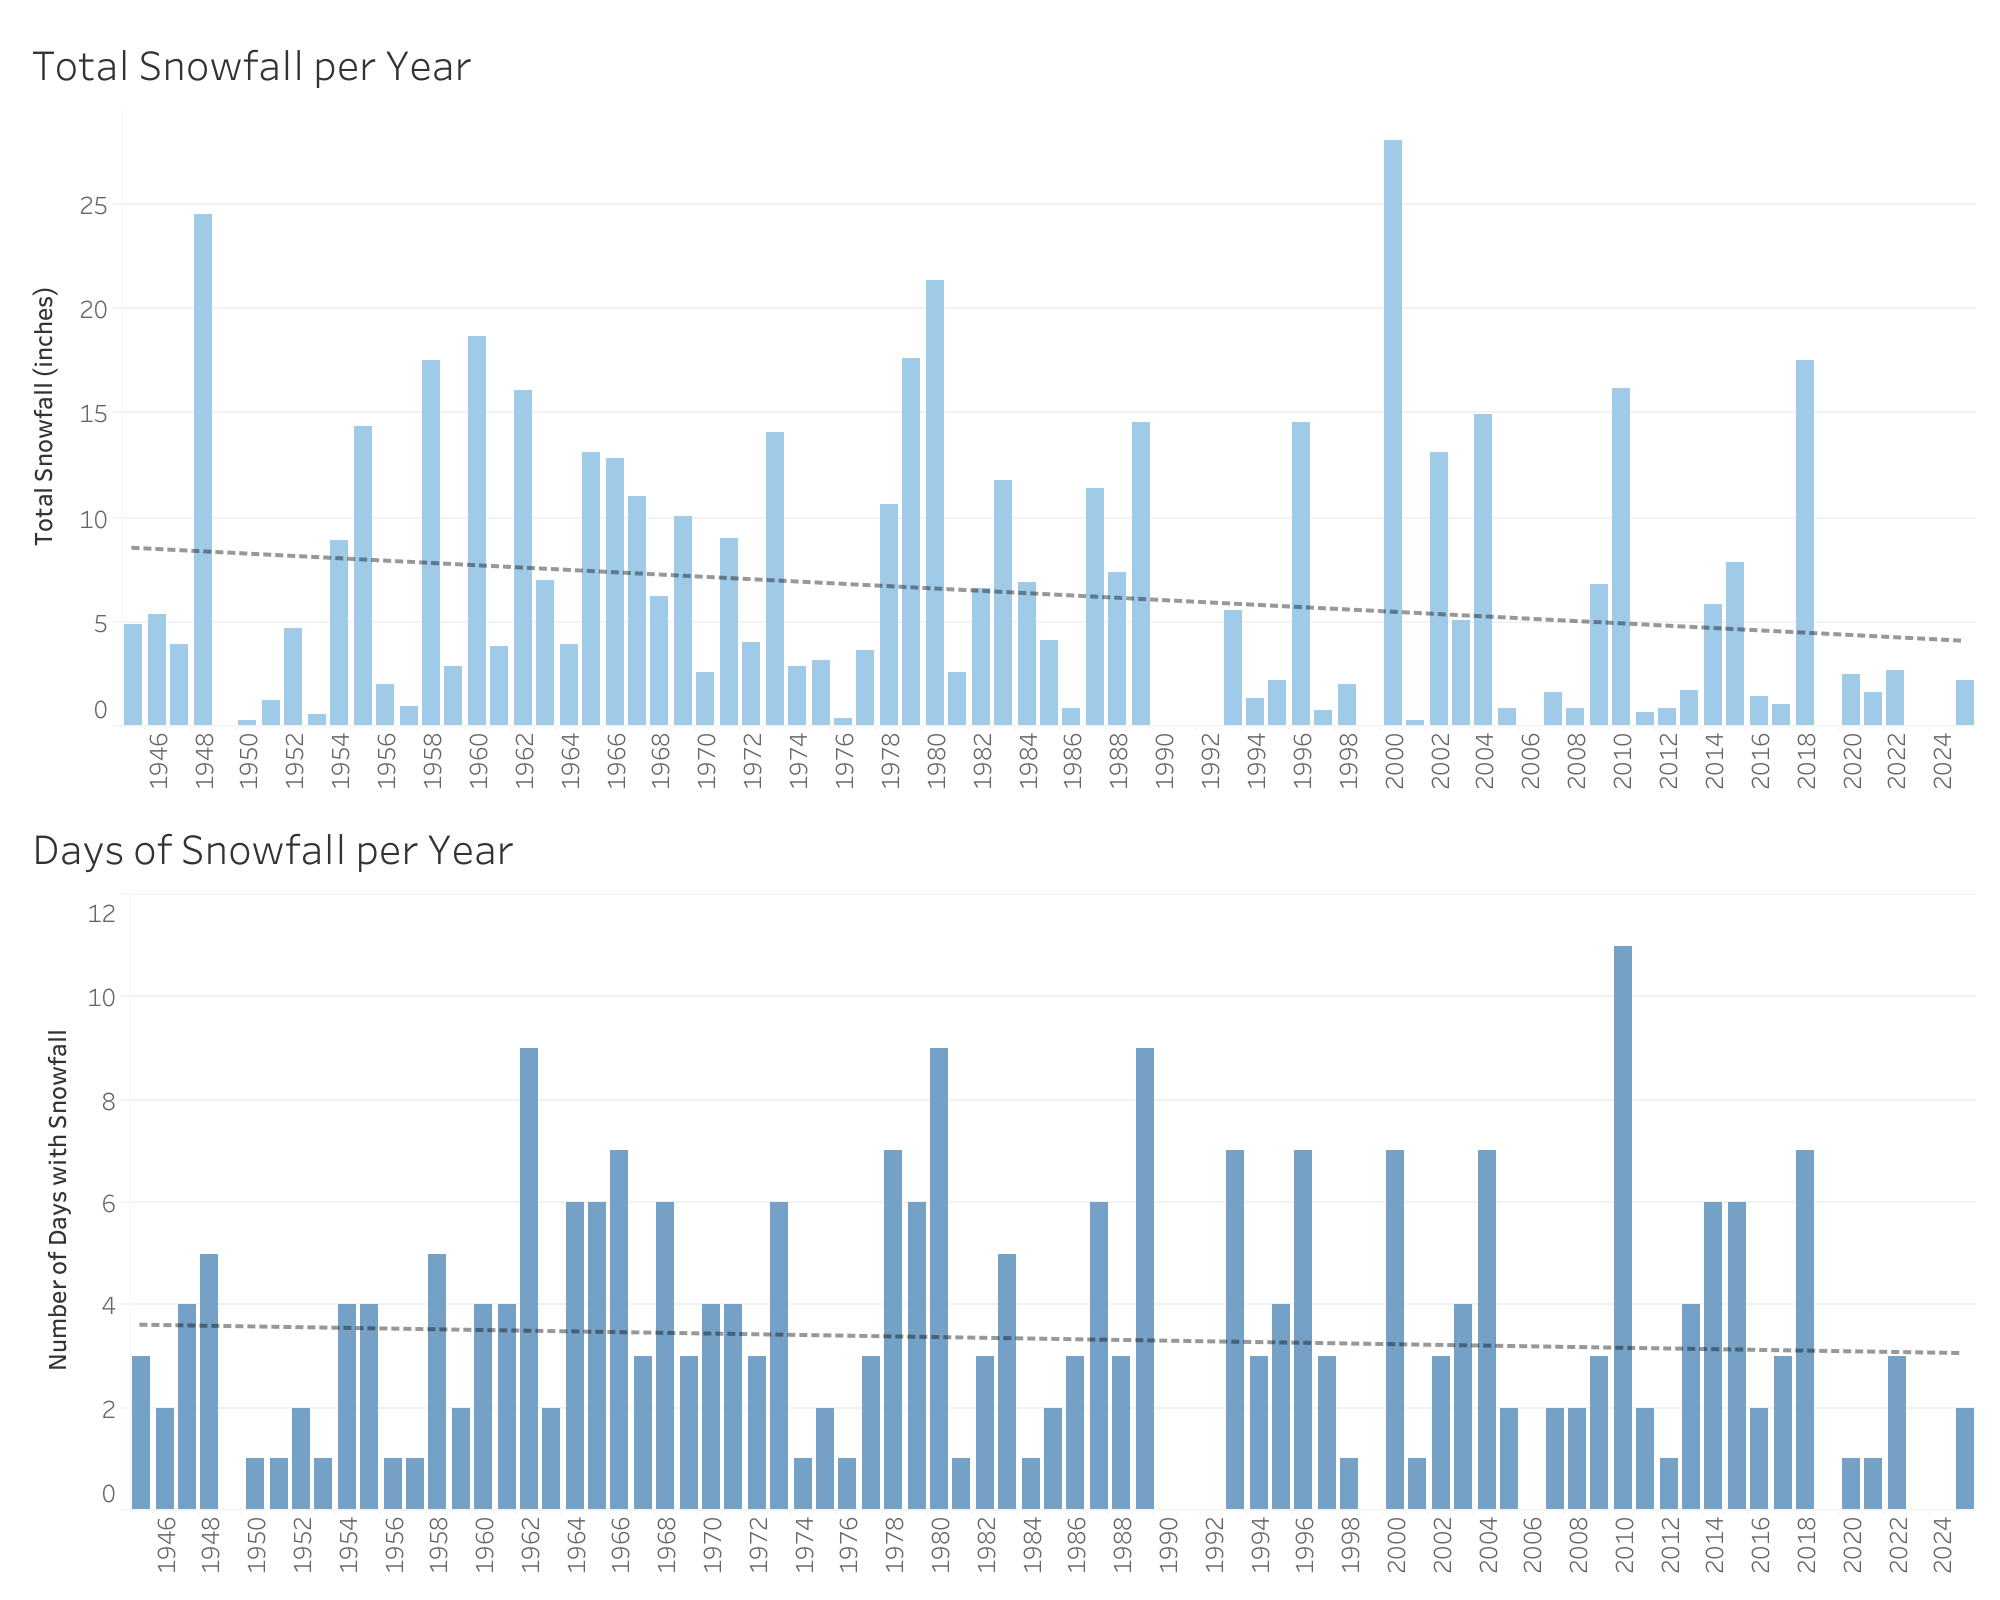

What the dashboard file says about the page in this screenshot:
{"tool":"tableau","page":{"name":"Snow","canvas":[1000,800],"ordinal":0},"visuals":[{"type":"worksheet","title":"Total Snowfall per Year","mark":"Bar","rows":["SNOW (Inches)"],"cols":["Date"],"box":[8,8,984,392]},{"type":"worksheet","title":"Days of Snowfall per Year","mark":"Bar","rows":["Calculation_1125944186974258"],"cols":["Date"],"box":[8,400,984,392]}]}

Visuals, with their boxes in screenshot pixels (x1, y1, x2, y2), scaled from the page's 1000x800 canvas onto the 2000x1600 screenshot:
"Total Snowfall per Year" worksheet (Bar marks): box=[16, 16, 1984, 800]
"Days of Snowfall per Year" worksheet (Bar marks): box=[16, 800, 1984, 1584]
